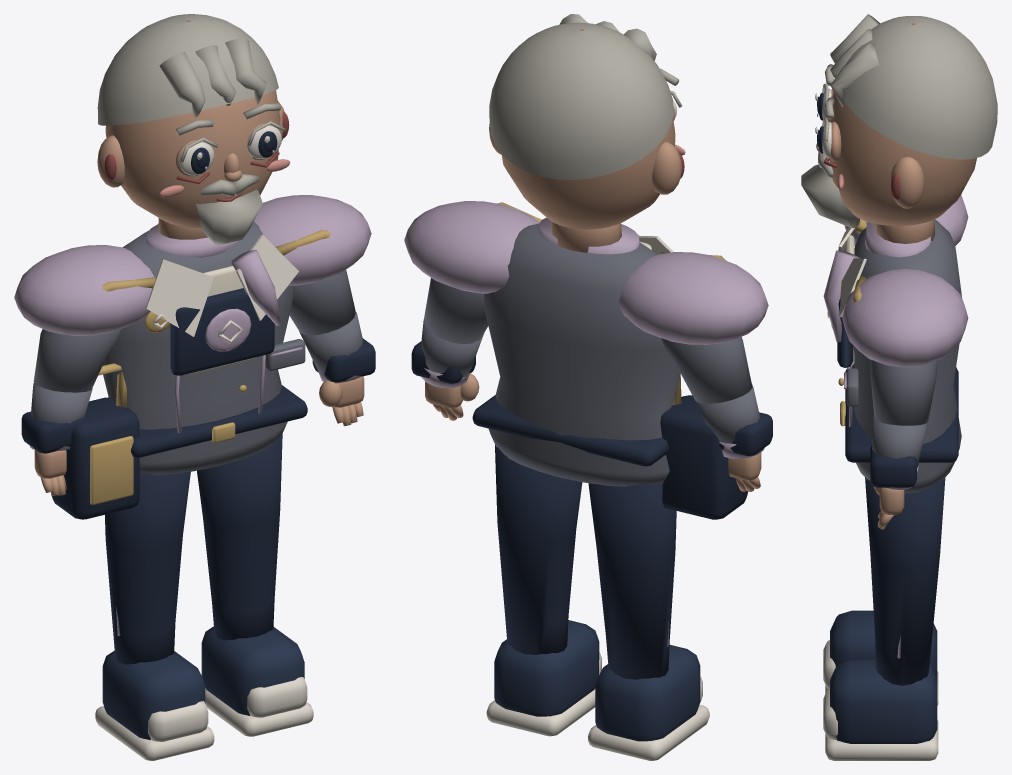
File: npc_npc_grave_keeper_reward.glb
3 renders of one model, left to right at view 1: azimuth 30°, elevation 25°; view 2: azimuth 150°, elevation 25°; view 3: azimuth 270°, elevation 25°, orthographic.
Visible parts, largest first — view 1: figure.050; view 2: figure.050; view 3: figure.050.
Part boxes in pixels (bbox=[...]): figure.050: bbox=[14, 14, 375, 760]; figure.050: bbox=[404, 14, 772, 760]; figure.050: bbox=[801, 14, 997, 760].
Bounding box in the file's own units: 0.7909 × 1.52 × 0.3873.
